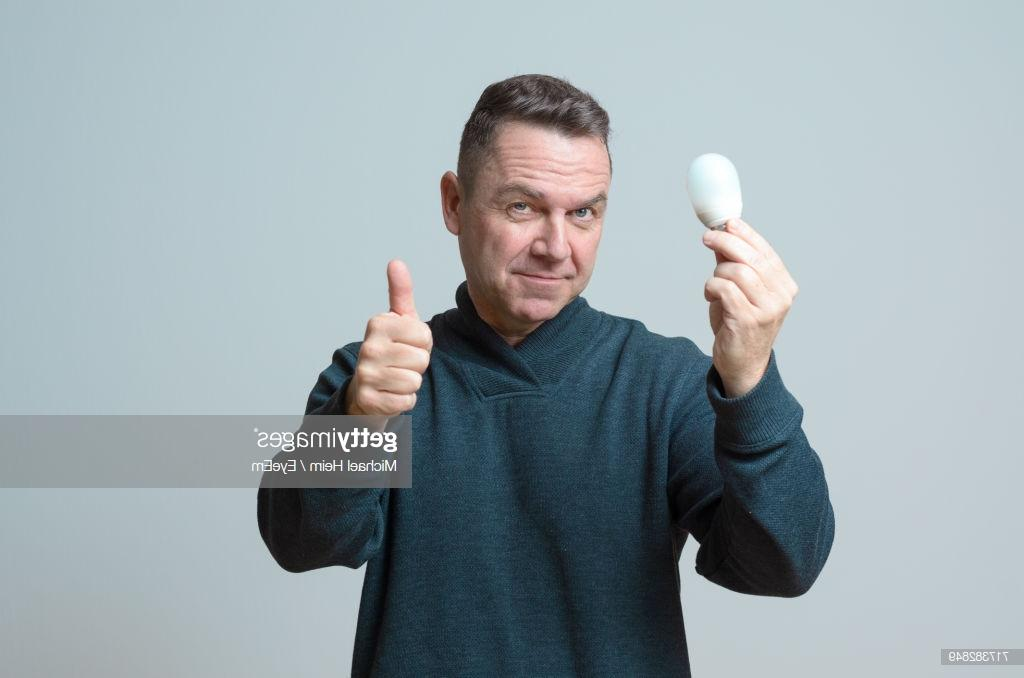thumbsup: (354, 258, 435, 415)
